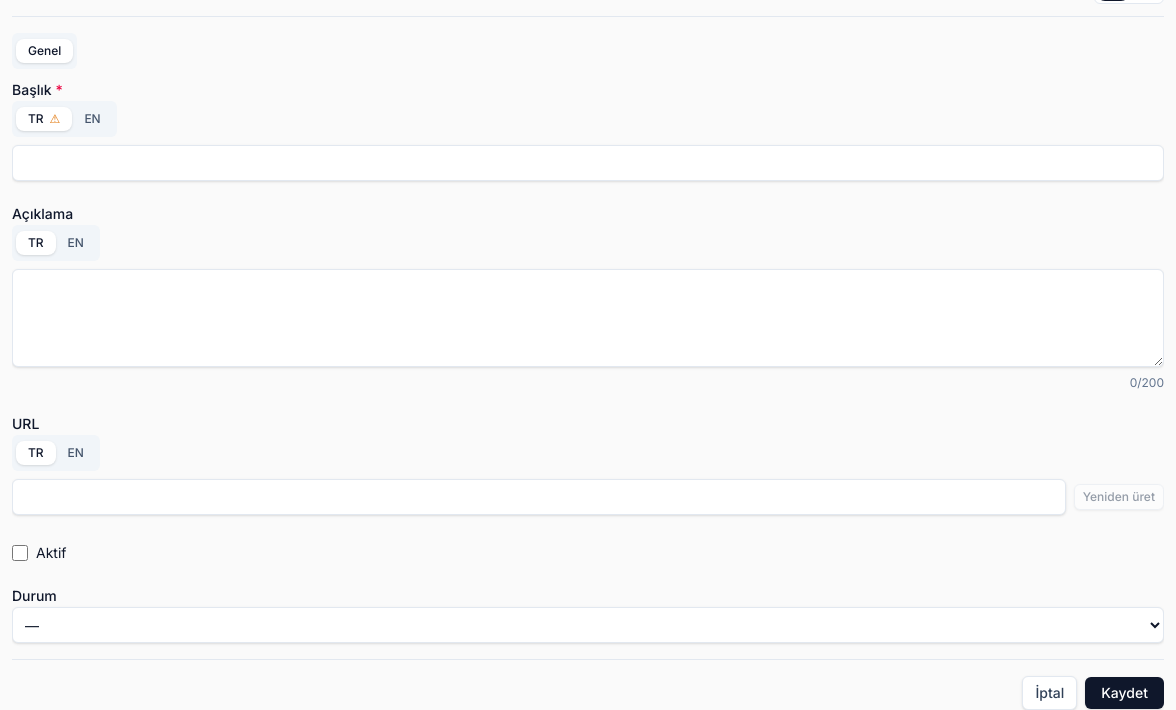
Test: ModuleDetail › 3. Required boş + Kaydet → error banner
The image size is (1176, 710).
(page scrolled)
Click the button "Kaydet" at (1125, 693), box top-left (1085, 677), bottom-right (1164, 709)
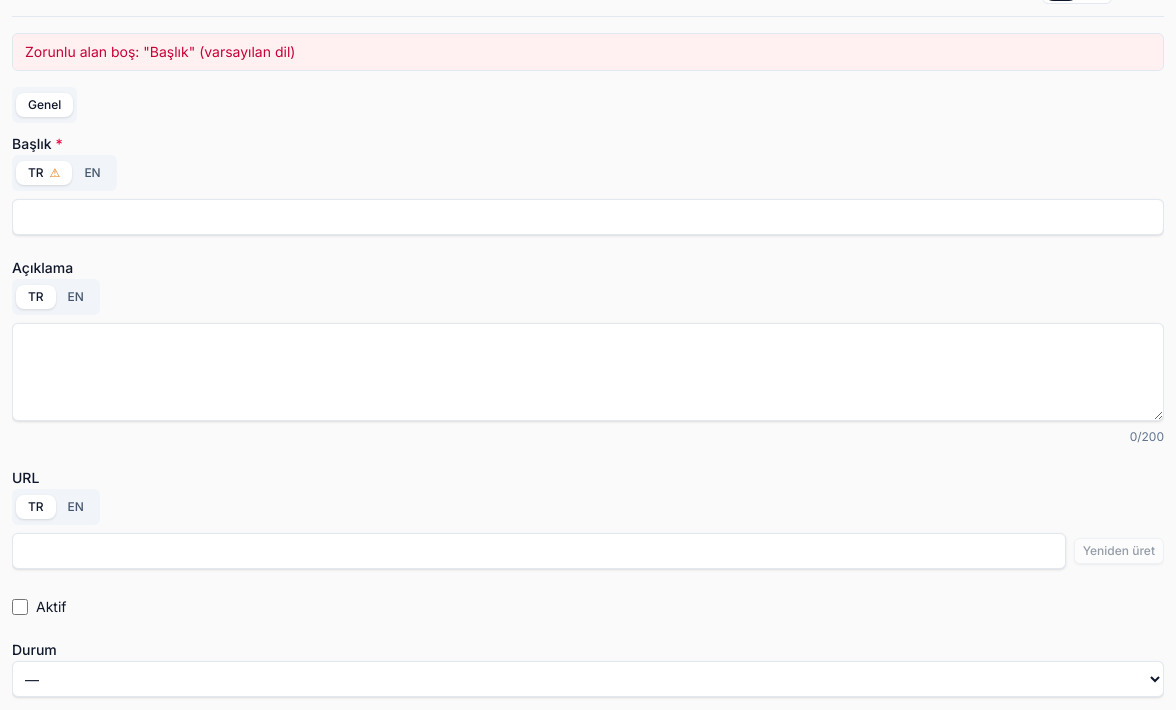
expect the message "Zorunlu alan boş: \"Başlık\" (varsayılan dil)" is shown: met, box top-left (12, 33), bottom-right (1164, 71)
